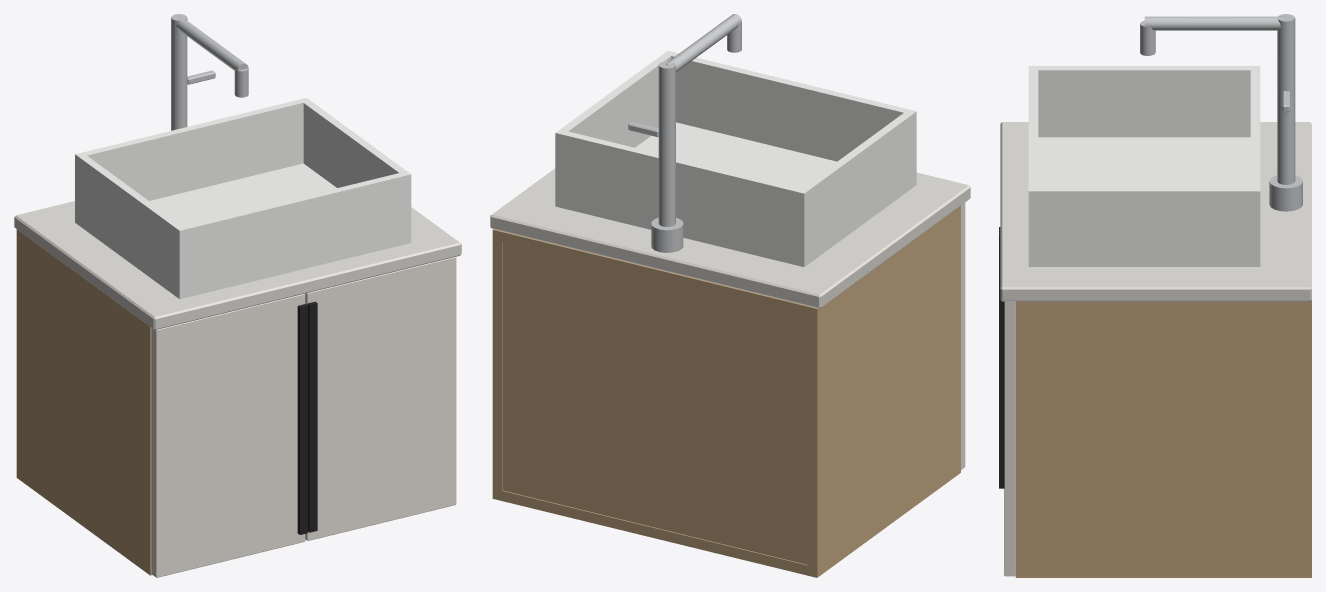
Rendered from 39_szafka_lazienkowa_60.glb.
The picture shows the model from 3 angles, left to right: view 1: azimuth 30°, elevation 25°; view 2: azimuth 150°, elevation 25°; view 3: azimuth 270°, elevation 25°; orthographic projection. The views are drawn at different scales.
Visible parts, largest first — view 1: Umywalka, Front_drzwi_1, Front_drzwi_2, Korpus, Blat, Uchwyty, Bateria; view 2: Korpus, Umywalka, Blat, Bateria, Front_drzwi_1; view 3: Korpus, Umywalka, Blat, Bateria, Front_drzwi_2, Uchwyty.
Boxes of the visible parts, box(x1,y1,x2,y2) form: Umywalka: box(75, 98, 411, 299); Front_drzwi_1: box(151, 293, 305, 577); Front_drzwi_2: box(305, 257, 456, 540); Korpus: box(16, 229, 151, 575); Blat: box(14, 201, 461, 329); Uchwyty: box(297, 301, 317, 534); Bateria: box(171, 14, 248, 130); Korpus: box(492, 205, 960, 577); Umywalka: box(555, 50, 916, 267); Blat: box(490, 168, 970, 308); Bateria: box(628, 14, 741, 252); Front_drzwi_1: box(961, 202, 965, 469); Korpus: box(1015, 300, 1311, 577); Umywalka: box(1028, 66, 1260, 266); Blat: box(1000, 122, 1311, 301); Bateria: box(1140, 14, 1302, 211); Front_drzwi_2: box(1004, 301, 1015, 576); Uchwyty: box(999, 227, 1004, 488).
Size of the model in its own units: 0.612 by 0.821 by 0.486.
